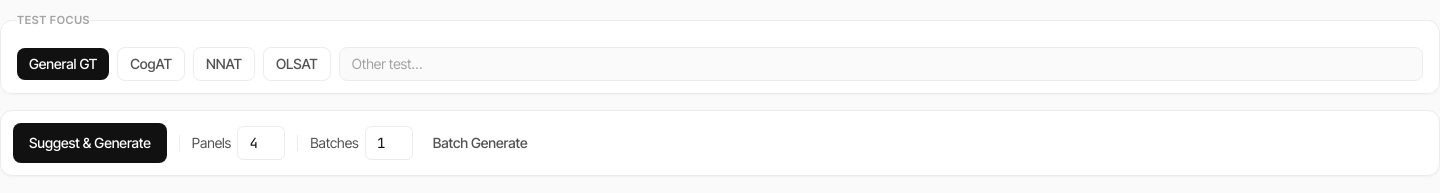
it: GtView › clamps an out-of-range panel count on blur so the field matches what is sent
The width and height of the screenshot is (1440, 193).
Step 1. Replace the text in the number field named "panels per worksheet" with "8" → (261, 143), box [237,126,285,160]
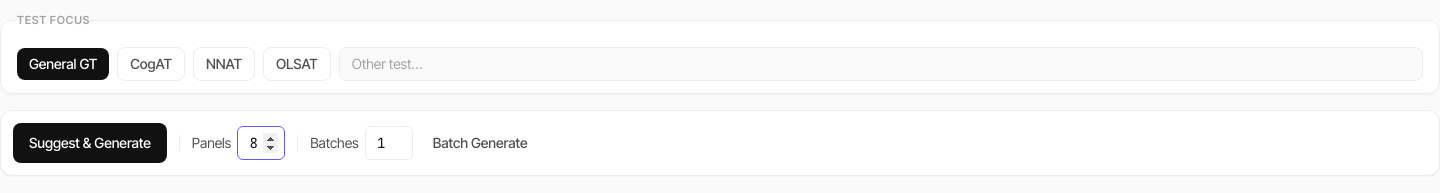
Step 2. Press Tab
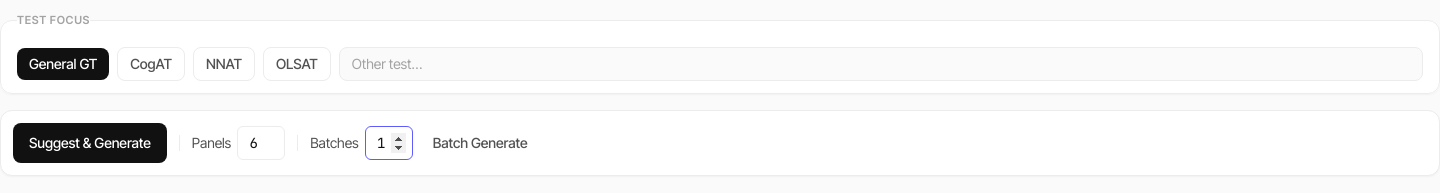
Check: the number field named "panels per worksheet" holds "6", box [237,126,285,160]
